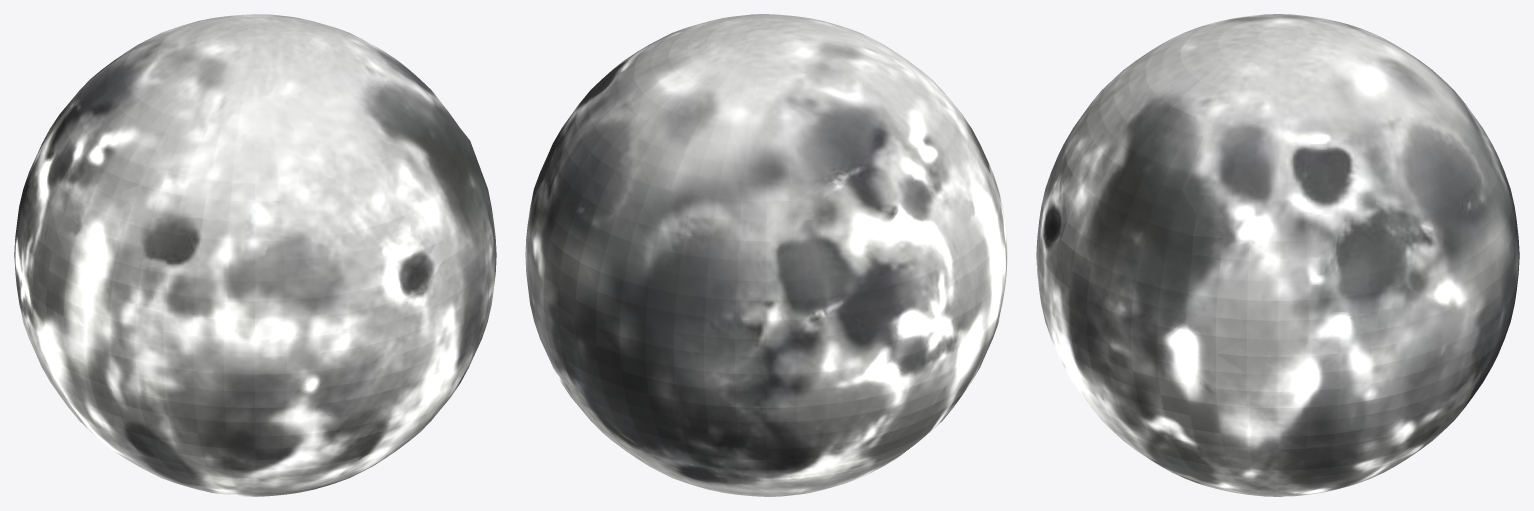
Rendered from moon_01.glb.
The picture shows the model from 3 angles, left to right: view 1: azimuth 30°, elevation 25°; view 2: azimuth 150°, elevation 25°; view 3: azimuth 270°, elevation 25°; orthographic projection.
Parts seen in each view (by area): view 1: Mesh_0; view 2: Mesh_0; view 3: Mesh_0.
Part boxes in pixels (box(x1,y1,x2,y2)): Mesh_0: box(14, 14, 496, 496); Mesh_0: box(525, 14, 1007, 496); Mesh_0: box(1036, 14, 1519, 496).
Size of the model in its own units: 1.91 by 1.91 by 1.91.
Materials: 1 (1 with a texture image).
